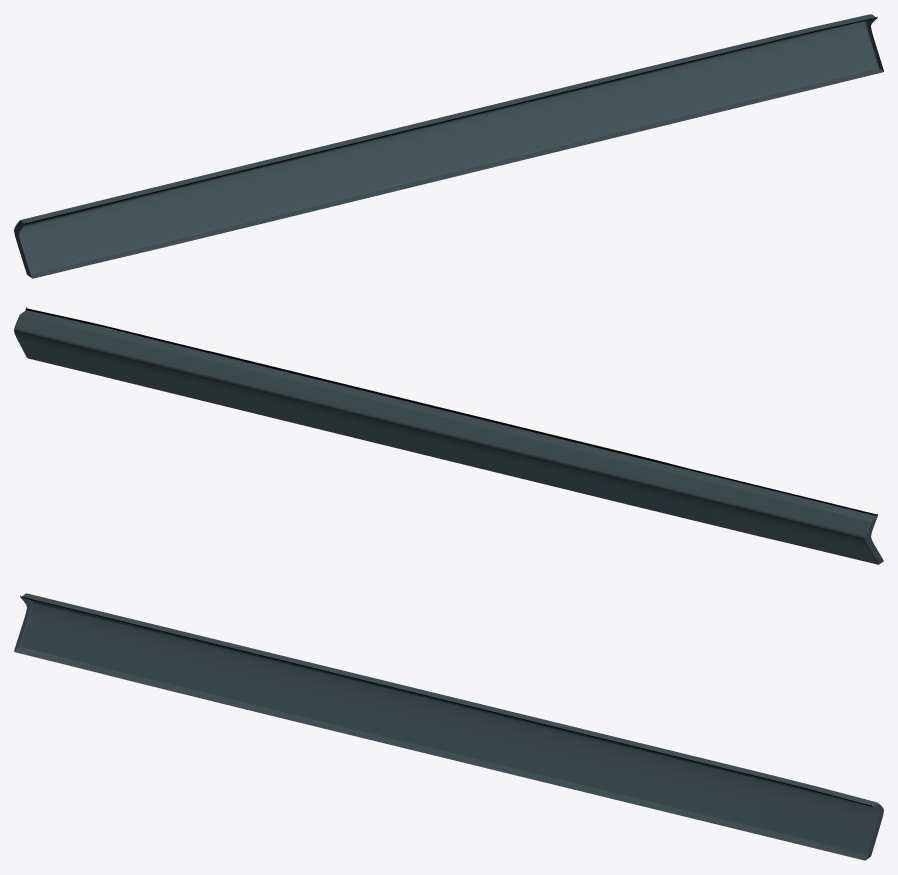
3 renders of one model, top to bottom at view 1: azimuth 30°, elevation 25°; view 2: azimuth 150°, elevation 25°; view 3: azimuth 330°, elevation 25°, orthographic.
Parts seen in each view (by area): view 1: P222_15_206A_L_1_DaS_P222_15_206A_L, P222_15_206A_L_1_DaS_P222_15_206A_L_E, P222_15_206A_L_P222_15_206A_L_2_D; view 2: P222_15_206A_L_1_DaS_P222_15_206A_L, P222_15_206A_L_P222_15_206A_L_2_D, P222_15_206A_L_1_DaS_P222_15_206A_L_E; view 3: P222_15_206A_L_1_DaS_P222_15_206A_L, P222_15_206A_L_1_DaS_P222_15_206A_L_E, P222_15_206A_L_P222_15_206A_L_2_D.
Boxes of the visible parts, x1,y1,x2,y2 form: P222_15_206A_L_1_DaS_P222_15_206A_L: (14,14,883,278); P222_15_206A_L_1_DaS_P222_15_206A_L_E: (16,14,878,274); P222_15_206A_L_P222_15_206A_L_2_D: (25,16,877,224); P222_15_206A_L_1_DaS_P222_15_206A_L: (14,310,883,564); P222_15_206A_L_P222_15_206A_L_2_D: (25,307,877,516); P222_15_206A_L_1_DaS_P222_15_206A_L_E: (14,314,878,564); P222_15_206A_L_1_DaS_P222_15_206A_L: (14,593,883,860); P222_15_206A_L_1_DaS_P222_15_206A_L_E: (19,593,879,855); P222_15_206A_L_P222_15_206A_L_2_D: (20,595,872,806).
Bounding box in the file's own units: 197 × 11.78 × 7.47.
